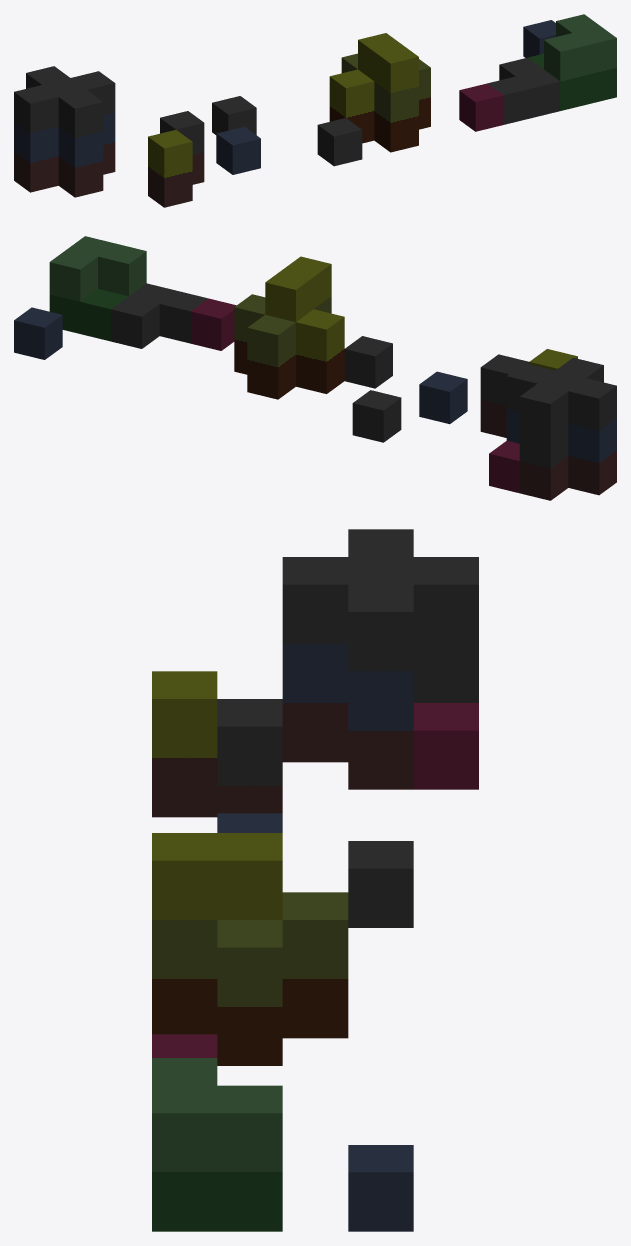
Rendered from Noodle_Cup2.obj.
The picture shows the model from 3 angles, top to bottom: view 1: azimuth 30°, elevation 25°; view 2: azimuth 150°, elevation 25°; view 3: azimuth 270°, elevation 25°; orthographic projection. The views are drawn at different scales.
Parts seen in each view (by area): view 1: Noodle_Cup2; view 2: Noodle_Cup2; view 3: Noodle_Cup2.
Boxes of the visible parts, x1=… form: Noodle_Cup2: x1=14, y1=14, x2=616, y2=207; Noodle_Cup2: x1=14, y1=236, x2=616, y2=500; Noodle_Cup2: x1=152, y1=529, x2=478, y2=1231.
Bounding box in the file's own units: 1.9 × 0.3 × 0.5.
1 material, 1 textured.
